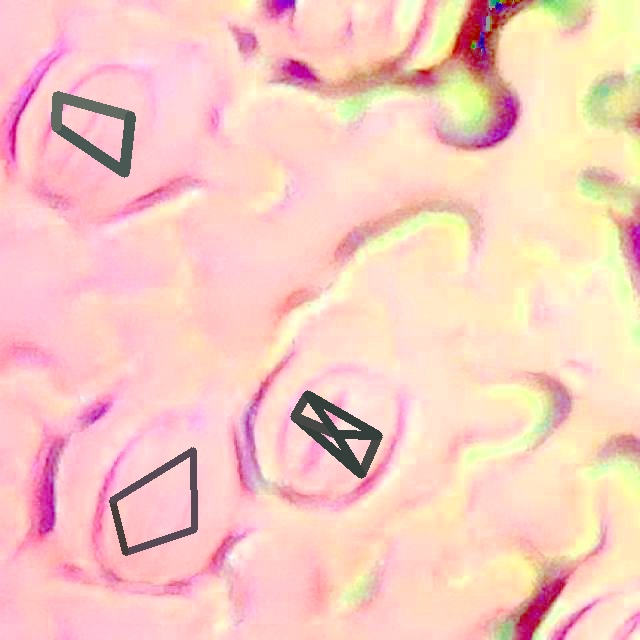close: (109, 448, 196, 554), (51, 92, 135, 177)
open: (291, 391, 381, 477)
